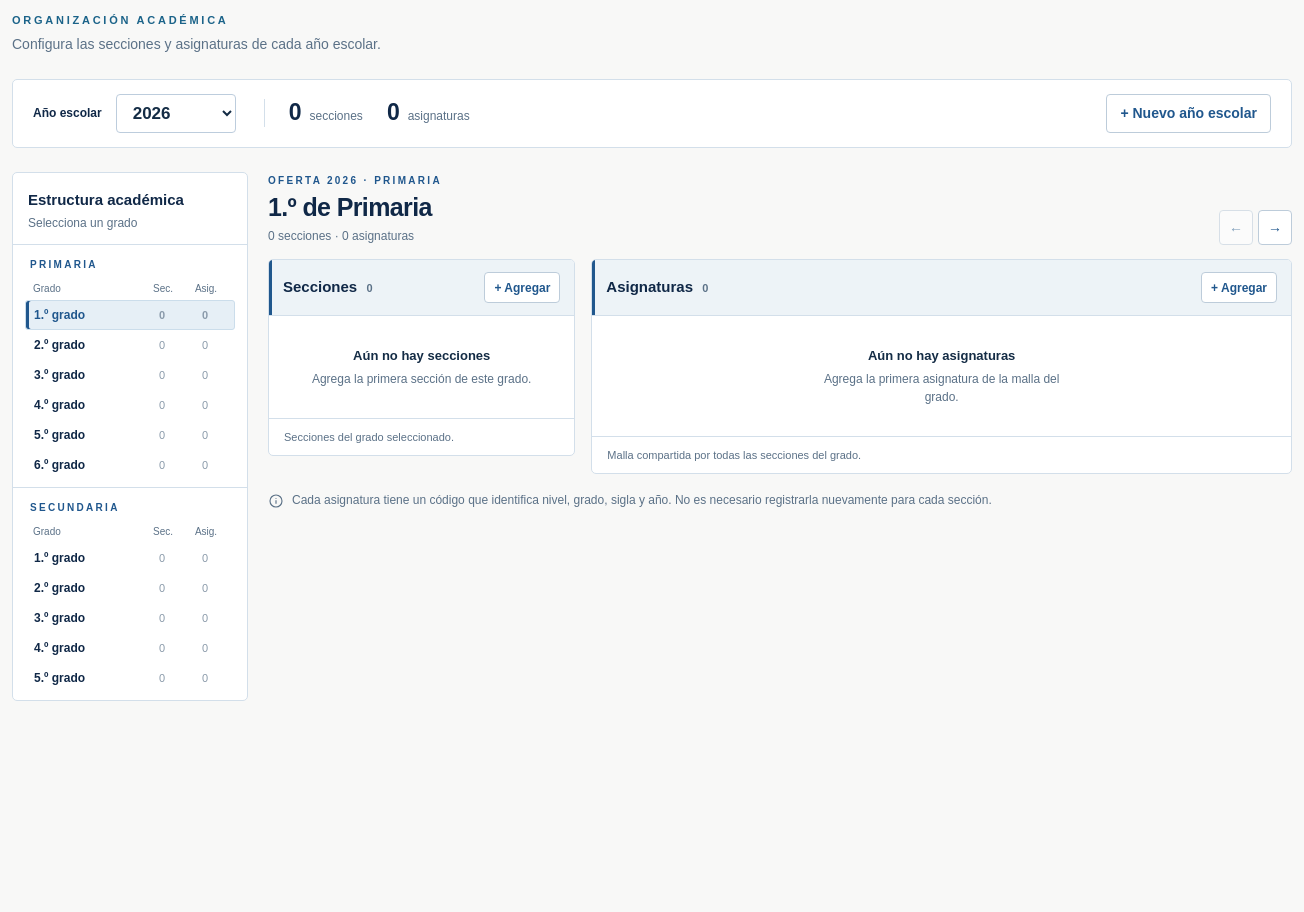
Test: Oferta académica ERP Web › consulta los 11 grados y conserva el grado al cambiar de año
This screenshot has width=1304, height=912.
Select "2027" in the dropdown labelled "Año escolar" at {"x": 176, "y": 113}, box left=116, top=94, right=236, bottom=132
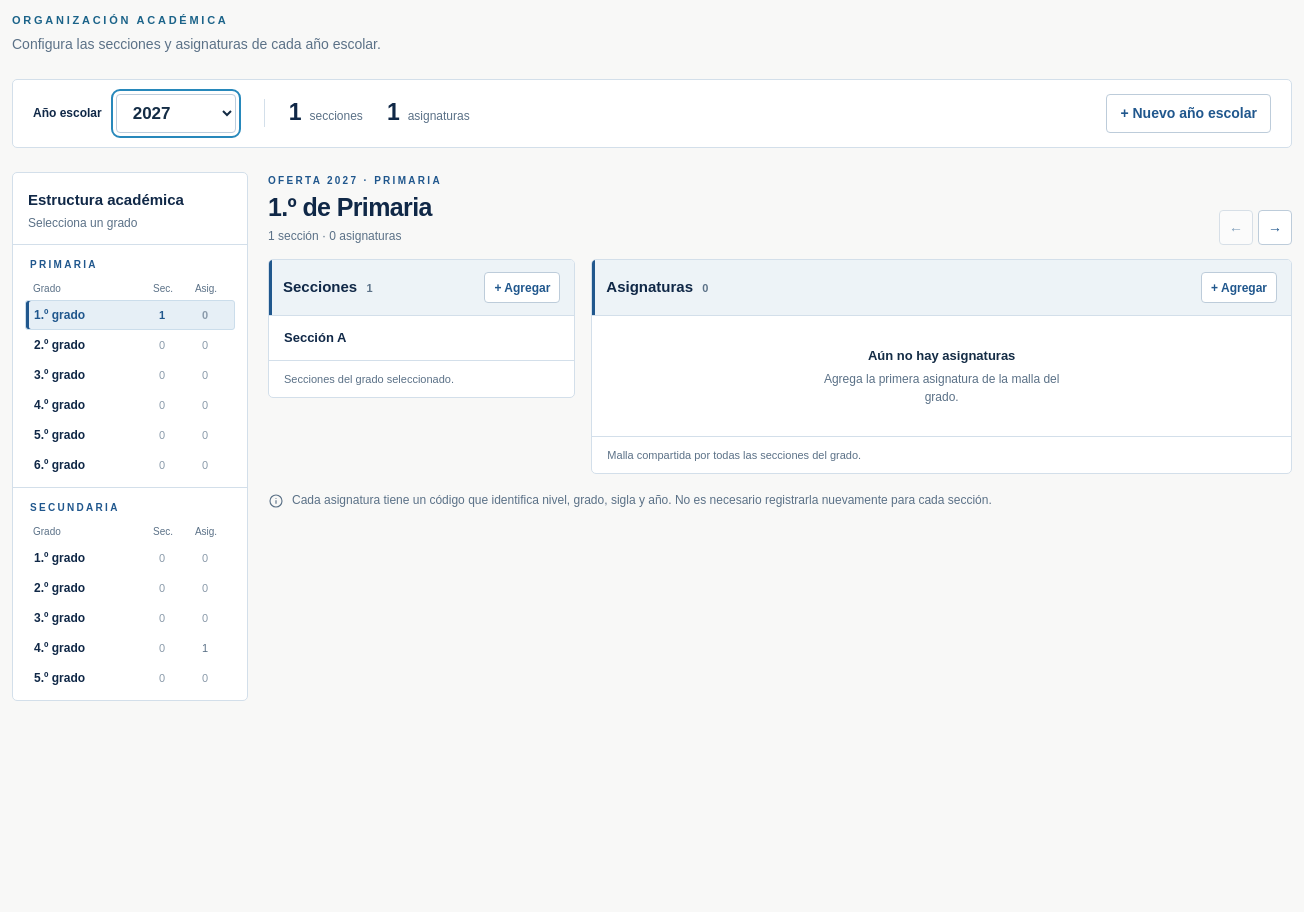
expect the list item "Sección A" is shown: met, box left=284, top=330, right=346, bottom=345
Click the button with aria-label "4.º de Secundaria" at {"x": 130, "y": 648}, box left=25, top=633, right=235, bottom=663
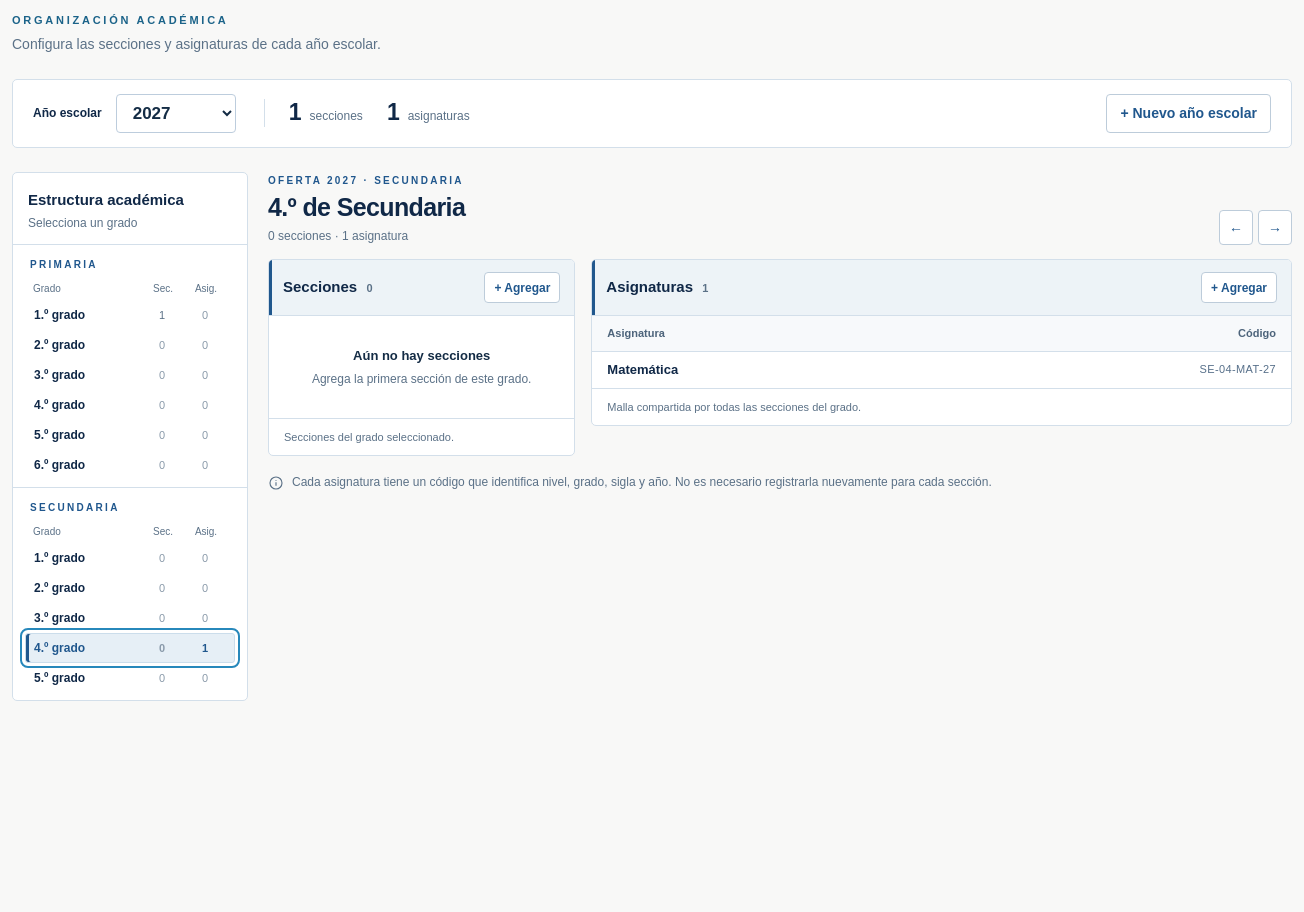
expect the text "SE-04-MAT-27" is shown: met, box left=932, top=351, right=1291, bottom=388
Select "2026" in the dropdown labelled "Año escolar" at {"x": 176, "y": 113}, box left=116, top=94, right=236, bottom=132
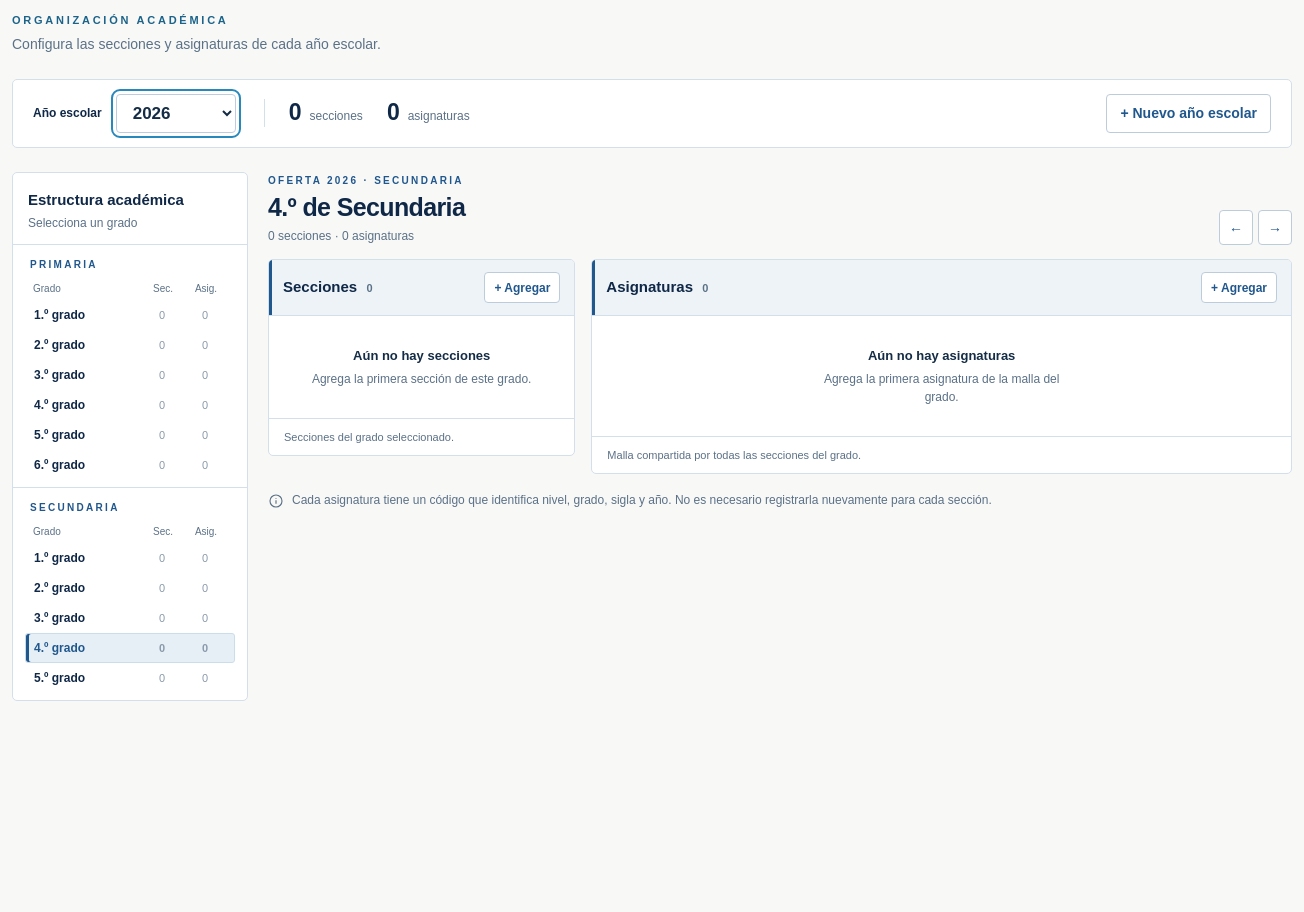
expect the heading "4.º de Secundaria" is shown: met, box left=268, top=190, right=465, bottom=223
expect the text "Aún no hay asignaturas" is shown: met, box left=868, top=348, right=1015, bottom=363
expect the text "SE-04-MAT-27" is gone: met
